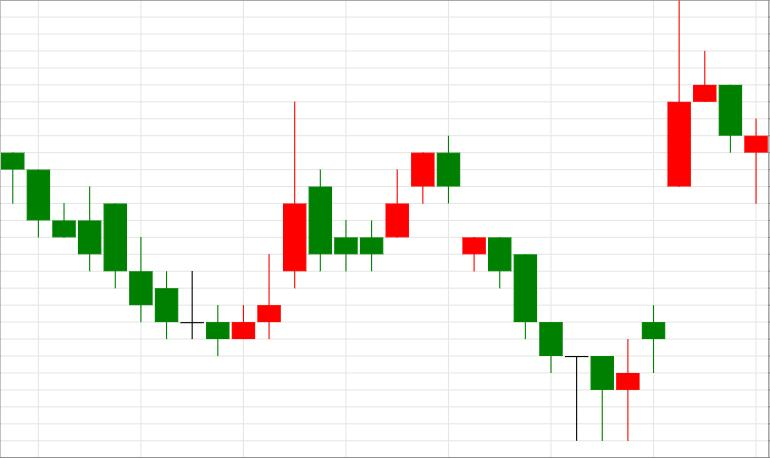hammer_rise: (437, 136, 614, 440)
